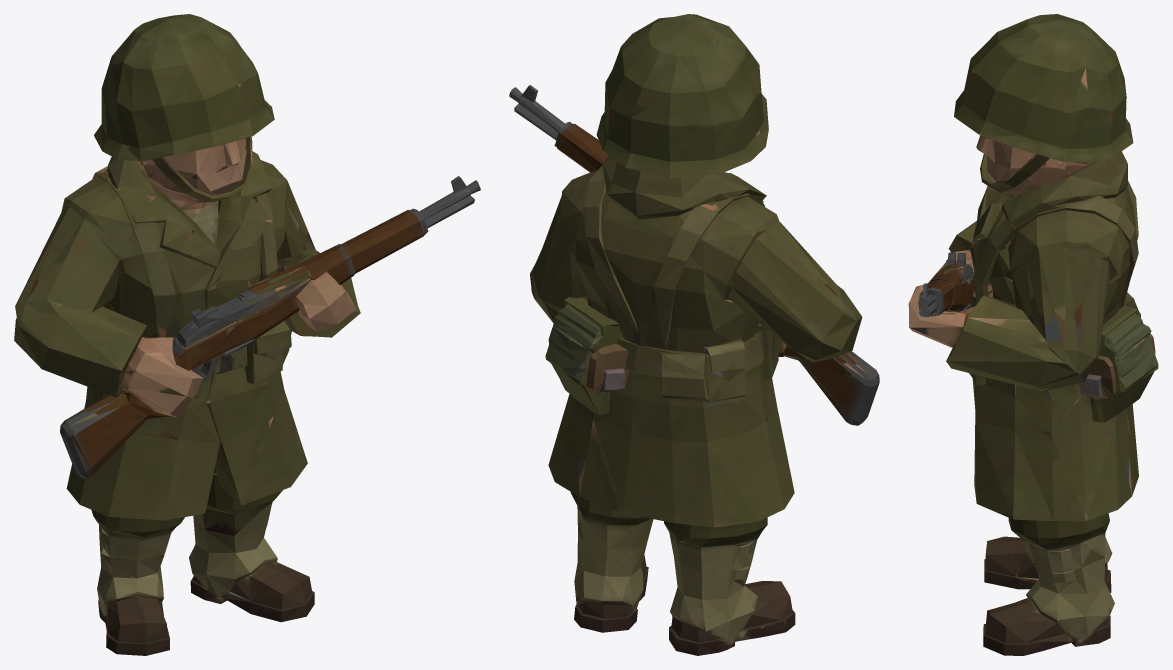
The model's file is sicily_us_inf_0.glb.
3 renders of one model, left to right at view 1: azimuth 30°, elevation 25°; view 2: azimuth 150°, elevation 25°; view 3: azimuth 270°, elevation 25°, orthographic. The views are drawn at different scales.
Visible parts, largest first — view 1: geometry_0; view 2: geometry_0; view 3: geometry_0.
Part boxes in pixels (box(x1,y1,x2,y2)): geometry_0: box(14, 14, 480, 655); geometry_0: box(509, 14, 879, 655); geometry_0: box(908, 14, 1158, 655).
Size of the model in its own units: 0.2294 by 0.324 by 0.1262.
Materials: 1 (1 with a texture image).
